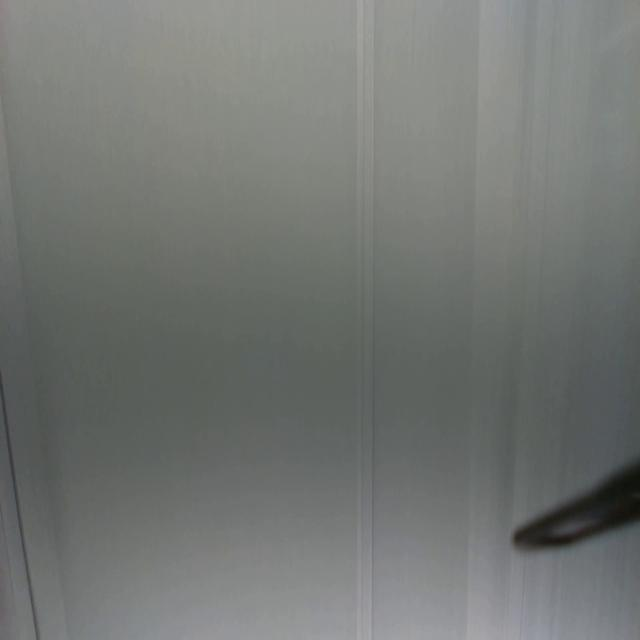crease: (353, 1, 378, 638), (527, 26, 557, 507), (0, 370, 38, 640), (517, 558, 529, 640)
